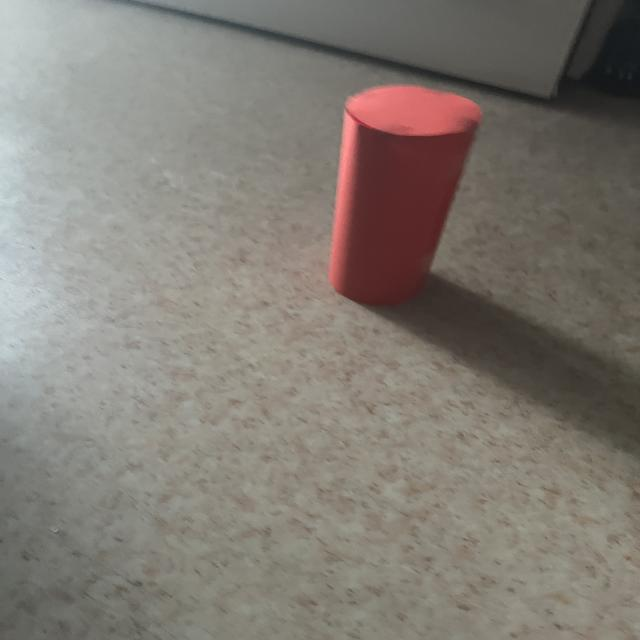przeszkoda: (329, 86, 481, 305)
